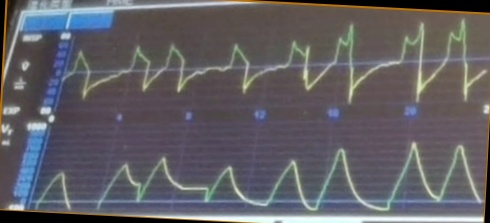Double_Triggering Flow: (124, 17, 485, 103)
Double_Triggering Volume: (103, 140, 481, 212)
